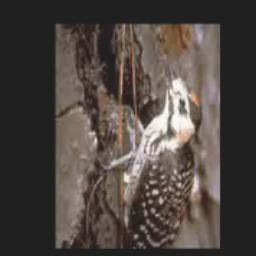Woodpecker: (104, 44, 201, 245)
